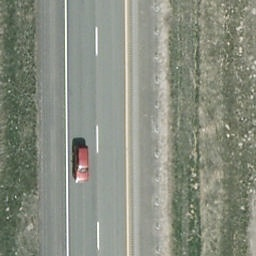car: (73, 145, 90, 183)
